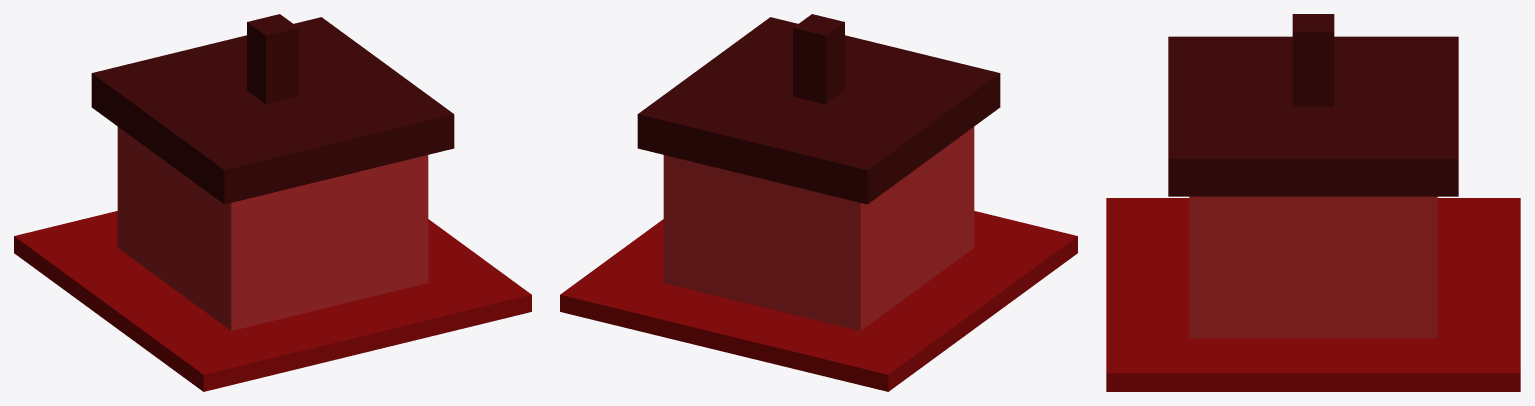
The model's file is zone-nether.glb.
3 renders of one model, left to right at view 1: azimuth 30°, elevation 25°; view 2: azimuth 150°, elevation 25°; view 3: azimuth 270°, elevation 25°, orthographic. The views are drawn at different scales.
Visible parts, largest first — view 1: body, roof, ground, spire; view 2: body, roof, ground, spire; view 3: ground, roof, body, spire.
Part boxes in pixels (x1,y1,x2,y2): body: [117, 127, 428, 330]; roof: [91, 17, 454, 204]; ground: [14, 211, 531, 391]; spire: [247, 14, 298, 104]; body: [663, 127, 974, 330]; roof: [637, 17, 1000, 204]; ground: [560, 211, 1077, 391]; spire: [793, 14, 844, 104]; ground: [1106, 198, 1520, 391]; roof: [1168, 36, 1458, 196]; body: [1189, 196, 1437, 338]; spire: [1292, 14, 1334, 106].
Size of the model in its own units: 4 by 3 by 4.
